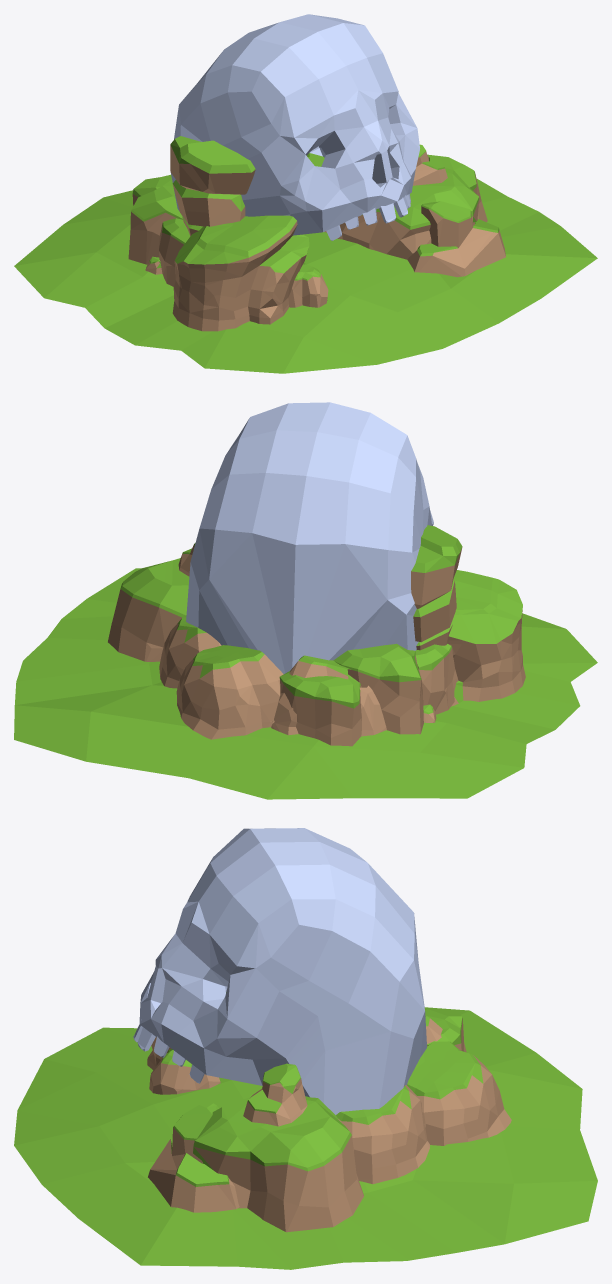
File: Skull Cave_2.fbx
The picture shows the model from 3 angles, top to bottom: view 1: azimuth 30°, elevation 25°; view 2: azimuth 150°, elevation 25°; view 3: azimuth 270°, elevation 25°; orthographic projection. The views are drawn at different scales.
Parts seen in each view (by area): view 1: Skull Cave_2; view 2: Skull Cave_2; view 3: Skull Cave_2.
Part boxes in pixels (x1,y1,x2,y2): Skull Cave_2: [14, 14, 597, 373]; Skull Cave_2: [14, 402, 597, 799]; Skull Cave_2: [14, 828, 597, 1269].
Size of the model in its own units: 44.34 by 22.86 by 41.18.
